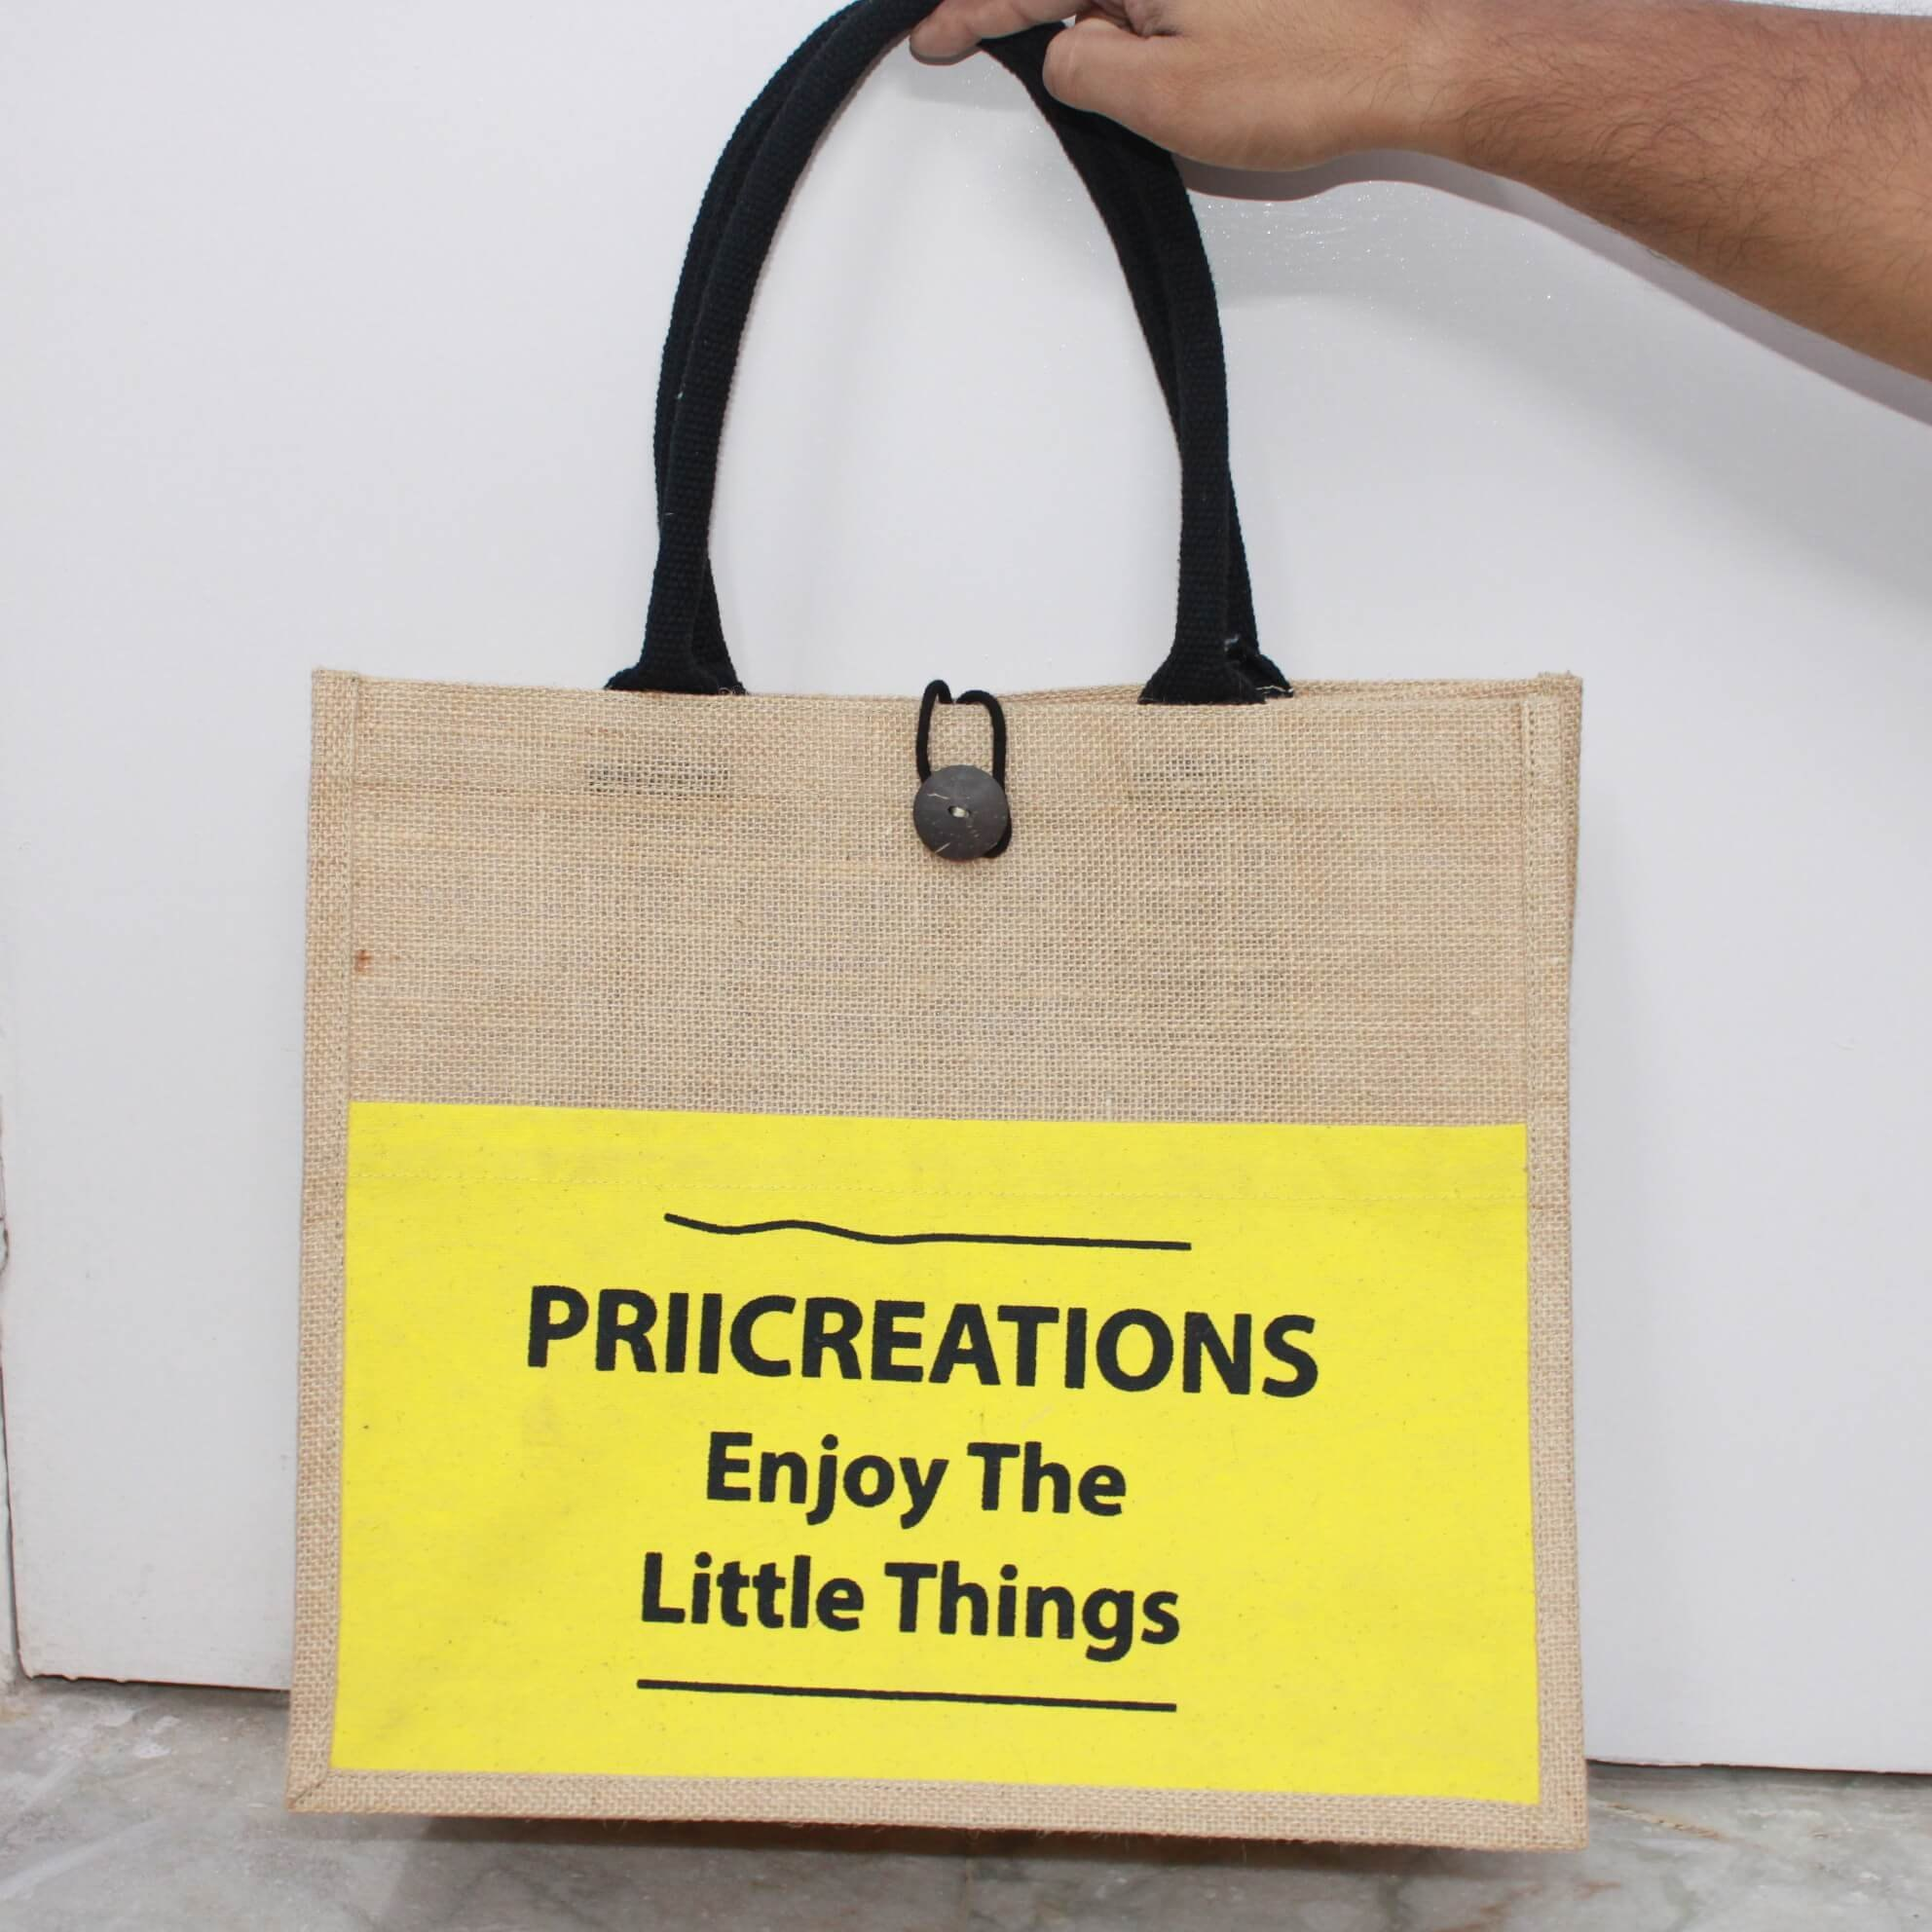jutebag: (290, 5, 1592, 1858)
